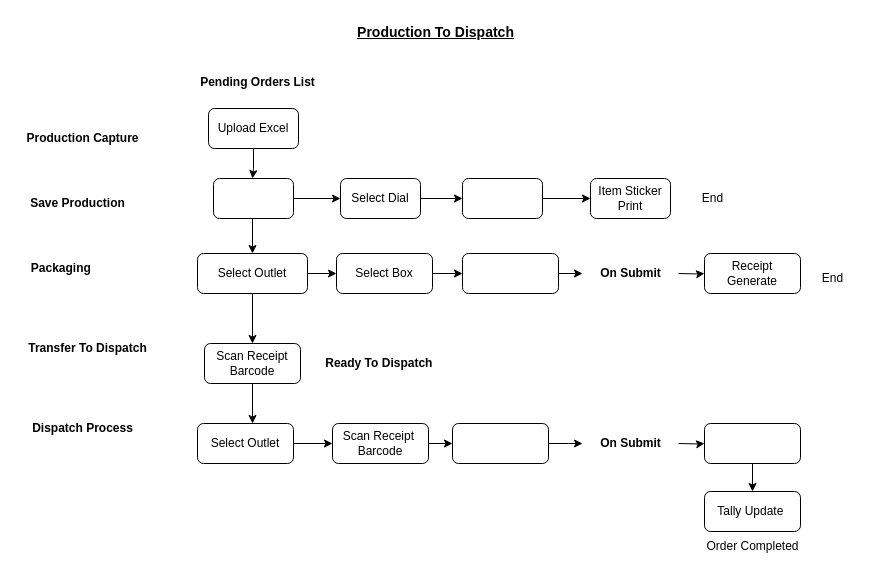
This 869x578 diagram has some shape labels left out. Each missing label, with the centre of its shape:
Enter Transport Details: point (500, 443)
Generate DC: point (752, 443)
Scan Item Sticker: point (510, 273)
Select Product: point (253, 198)
Wg.Capture: point (502, 198)
